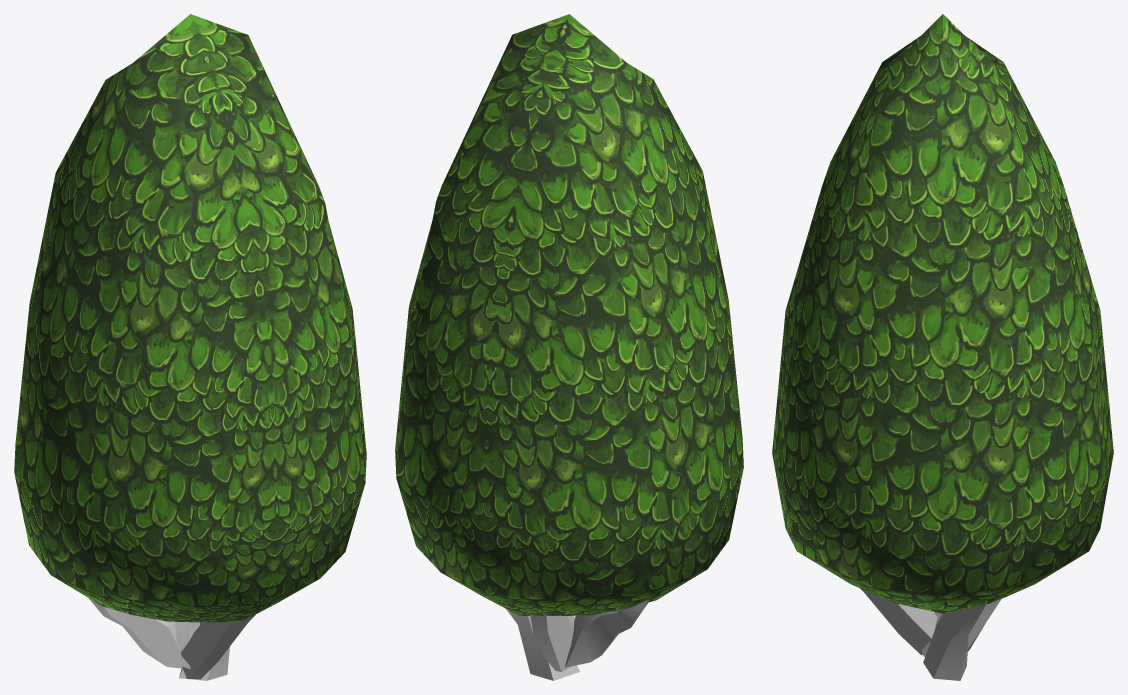
The model's file is e_courtyard_hedge_conical.fbx.
3 renders of one model, left to right at view 1: azimuth 30°, elevation 25°; view 2: azimuth 150°, elevation 25°; view 3: azimuth 270°, elevation 25°, orthographic. The views are drawn at different scales.
Visible parts, largest first — view 1: polySurface3158; view 2: polySurface3158; view 3: polySurface3158.
Part boxes in pixels (x1,y1,x2,y2): polySurface3158: (14, 14, 366, 680); polySurface3158: (395, 14, 743, 680); polySurface3158: (772, 14, 1113, 680).
Bounding box in the file's own units: 0.6336 × 1.33 × 0.6336.
